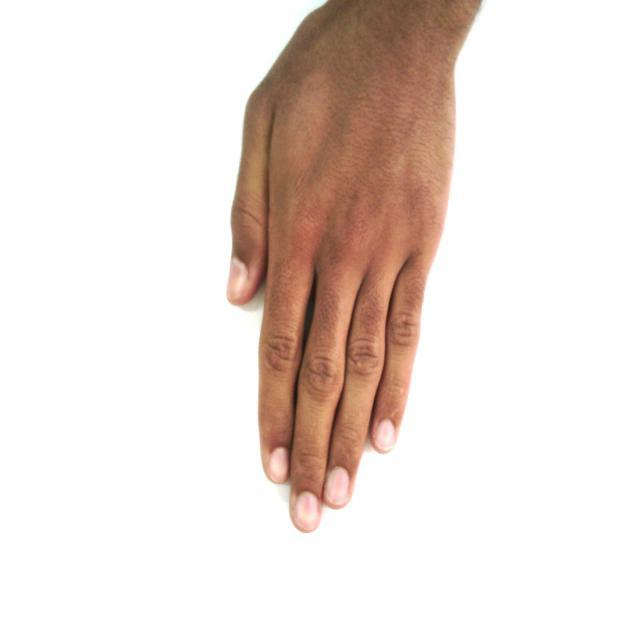Fingernail: (326, 466, 350, 505), (296, 491, 319, 531), (228, 258, 247, 297), (375, 419, 395, 451), (271, 447, 288, 483)
